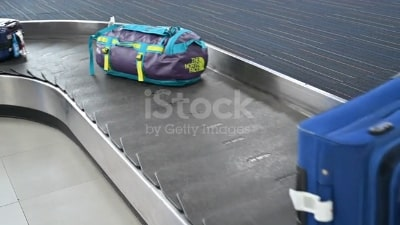baggage: (290, 69, 400, 225), (84, 15, 212, 91)
